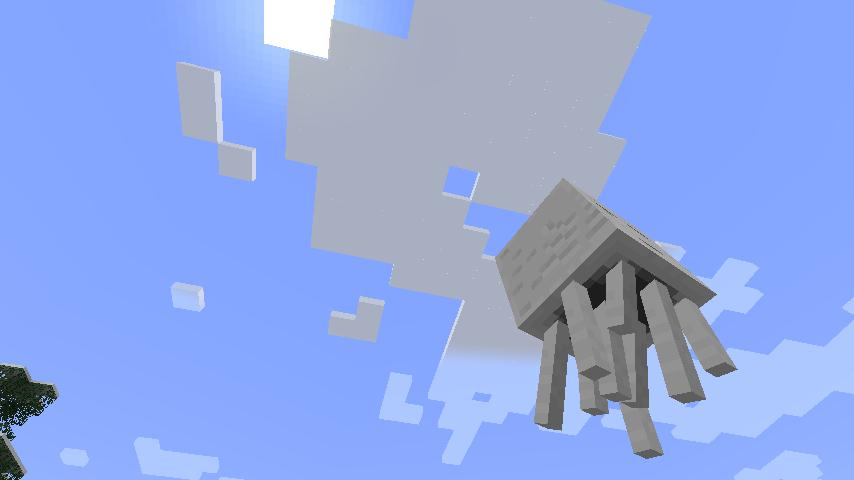ghast: (493, 176, 740, 466)
